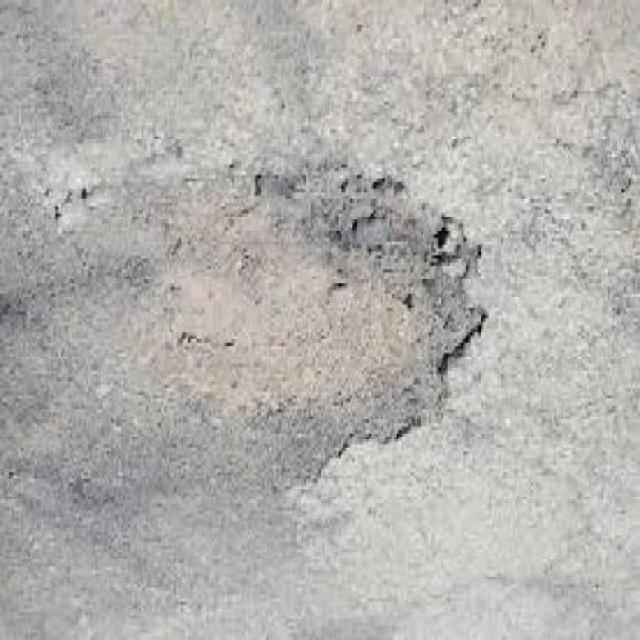pothole: (46, 154, 489, 500)
